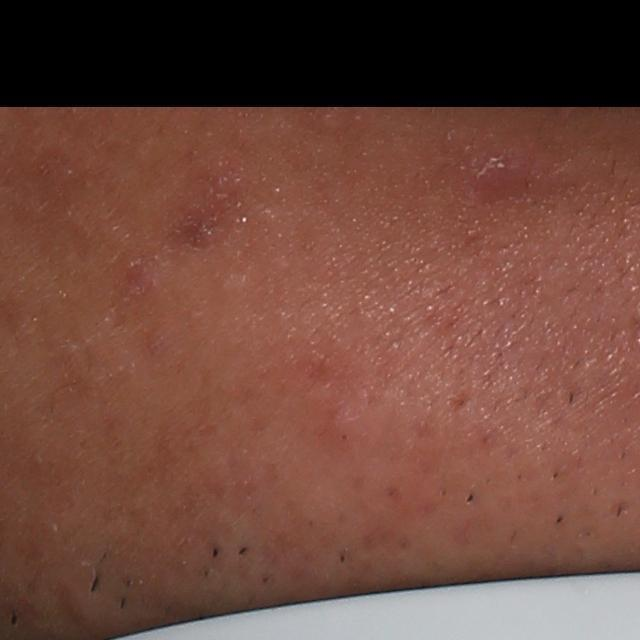papule: (458, 135, 537, 199)
